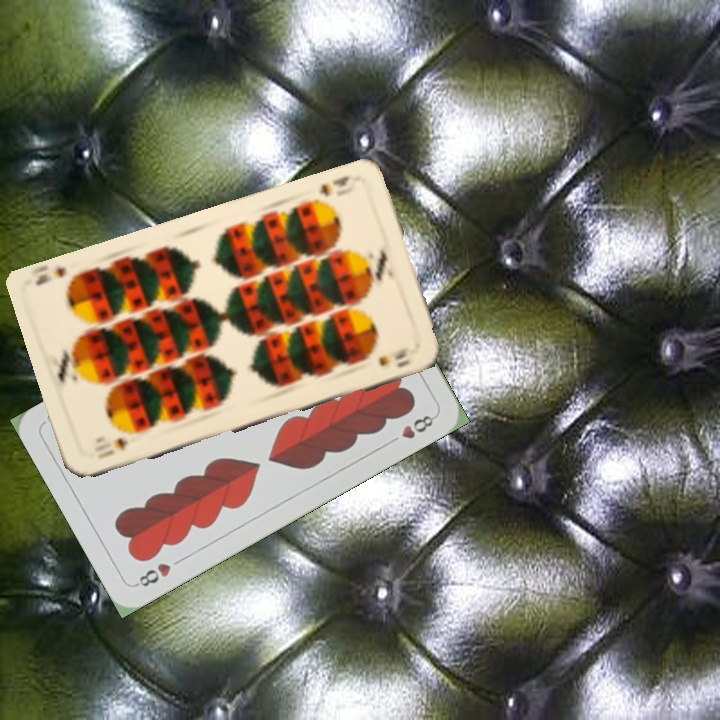H8: (131, 559, 174, 590)
S10: (307, 172, 353, 207), (94, 435, 131, 462)
